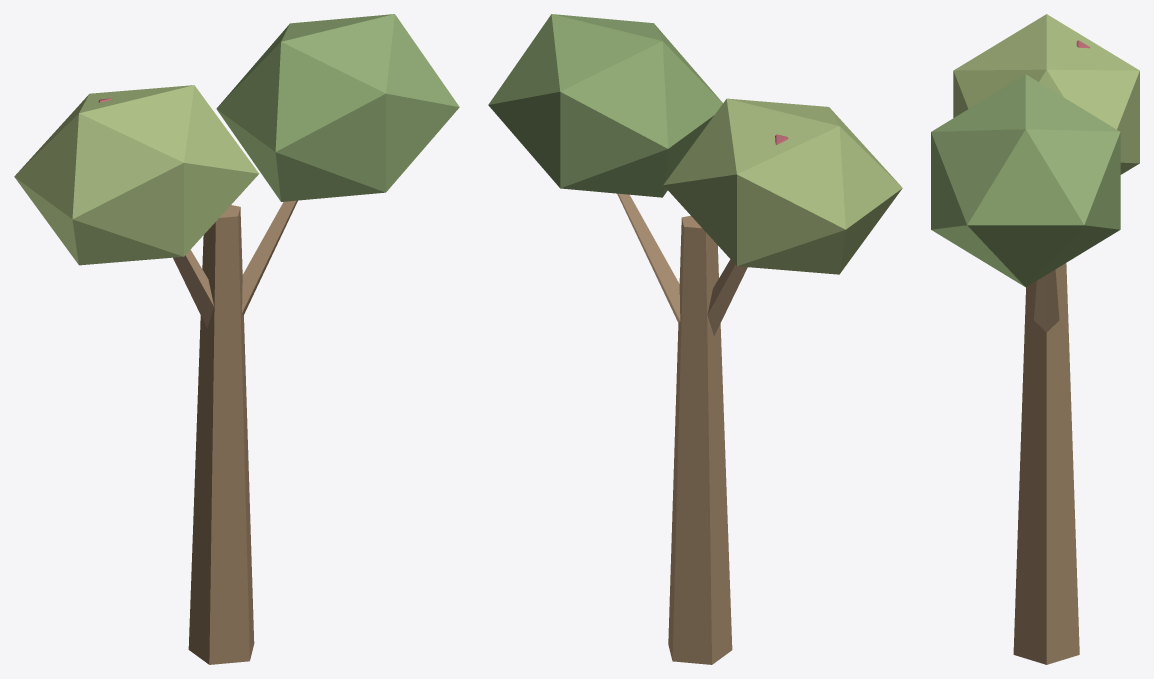
3 renders of one model, left to right at view 1: azimuth 30°, elevation 25°; view 2: azimuth 150°, elevation 25°; view 3: azimuth 270°, elevation 25°, orthographic. The views are drawn at different scales.
Visible parts, largest first — view 1: Body; view 2: Body; view 3: Body.
Part boxes in pixels (x1,y1,x2,y2): Body: (14,14,459,664); Body: (488,14,902,664); Body: (931,14,1139,664).
Bounding box in the file's own units: 2.47 × 3.79 × 1.2.
